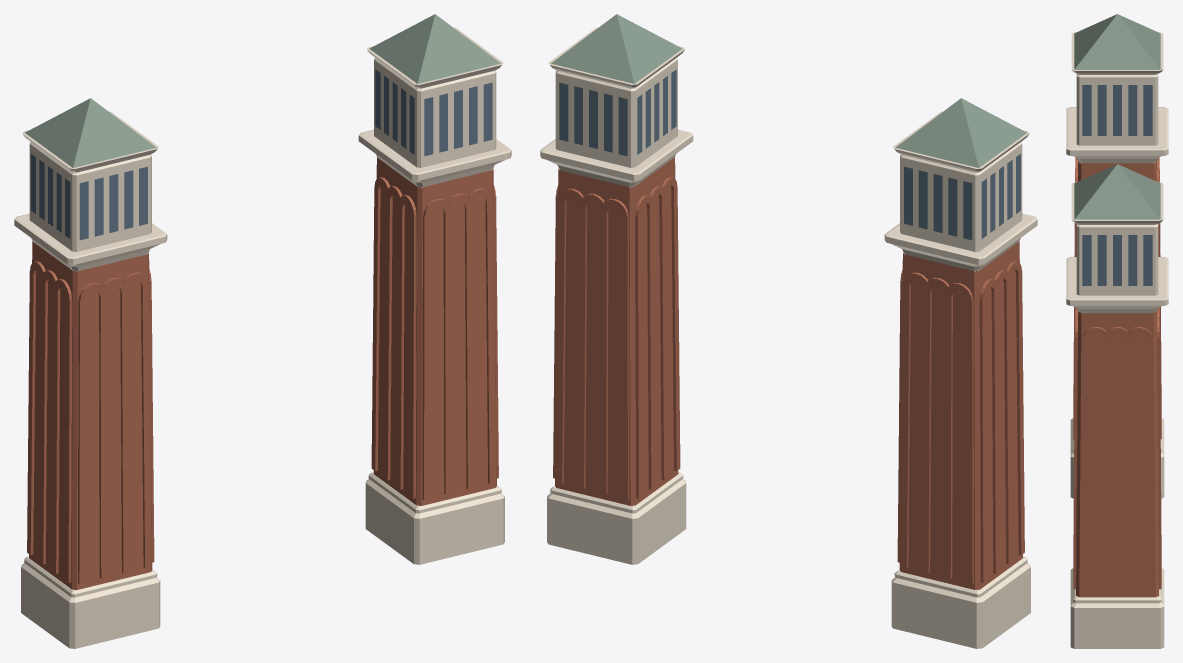
File: barcelona-venetian-towers.glb
3 views of the same model, side by side, from view 1: azimuth 30°, elevation 25°; view 2: azimuth 150°, elevation 25°; view 3: azimuth 270°, elevation 25° (orthographic). The views are drawn at different scales.
Visible parts, largest first — view 1: Torres Venecianes; view 2: Torres Venecianes; view 3: Torres Venecianes.
Part boxes in pixels (x1,y1,x2,y2): Torres Venecianes: (14, 14, 511, 648); Torres Venecianes: (540, 14, 1037, 648); Torres Venecianes: (1066, 14, 1168, 648).
Size of the model in its own units: 41.9 by 47 by 9.4.
